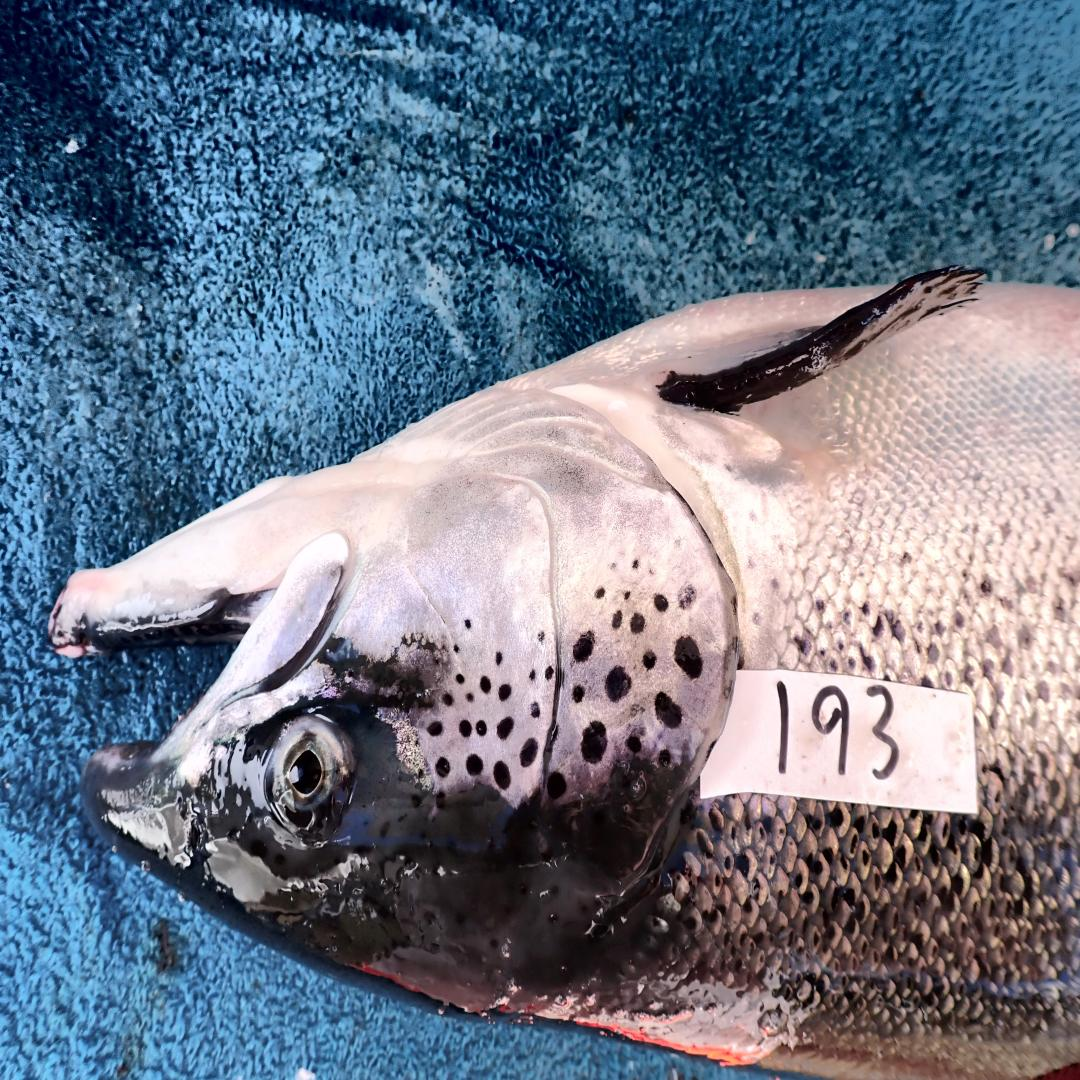spot: (580, 720, 608, 762), (675, 636, 702, 678), (654, 692, 681, 728), (605, 667, 631, 703), (572, 630, 595, 664), (546, 771, 567, 799), (521, 740, 538, 768), (494, 762, 510, 790), (679, 585, 696, 610), (466, 754, 483, 776), (498, 717, 513, 740), (654, 593, 669, 613), (631, 613, 645, 633), (626, 737, 641, 754), (428, 720, 443, 737), (572, 683, 584, 703), (437, 757, 449, 776), (643, 652, 656, 669), (659, 748, 671, 766), (498, 683, 510, 700), (460, 720, 472, 737), (612, 610, 622, 630), (481, 675, 491, 695), (477, 720, 487, 737), (529, 703, 540, 717), (594, 586, 605, 599), (544, 667, 553, 681), (443, 695, 454, 706), (623, 590, 631, 602), (496, 652, 502, 667), (529, 669, 536, 681), (453, 642, 460, 654), (609, 561, 616, 572), (538, 630, 544, 641), (456, 675, 464, 683), (466, 693, 473, 702), (633, 560, 639, 568), (464, 619, 470, 627)
